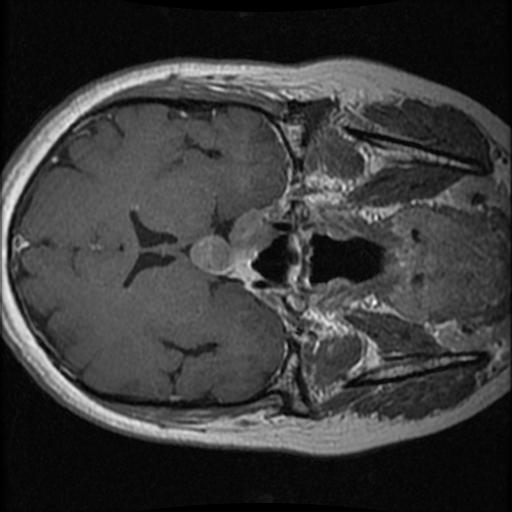pituitary tumour: (189, 210, 275, 282)
